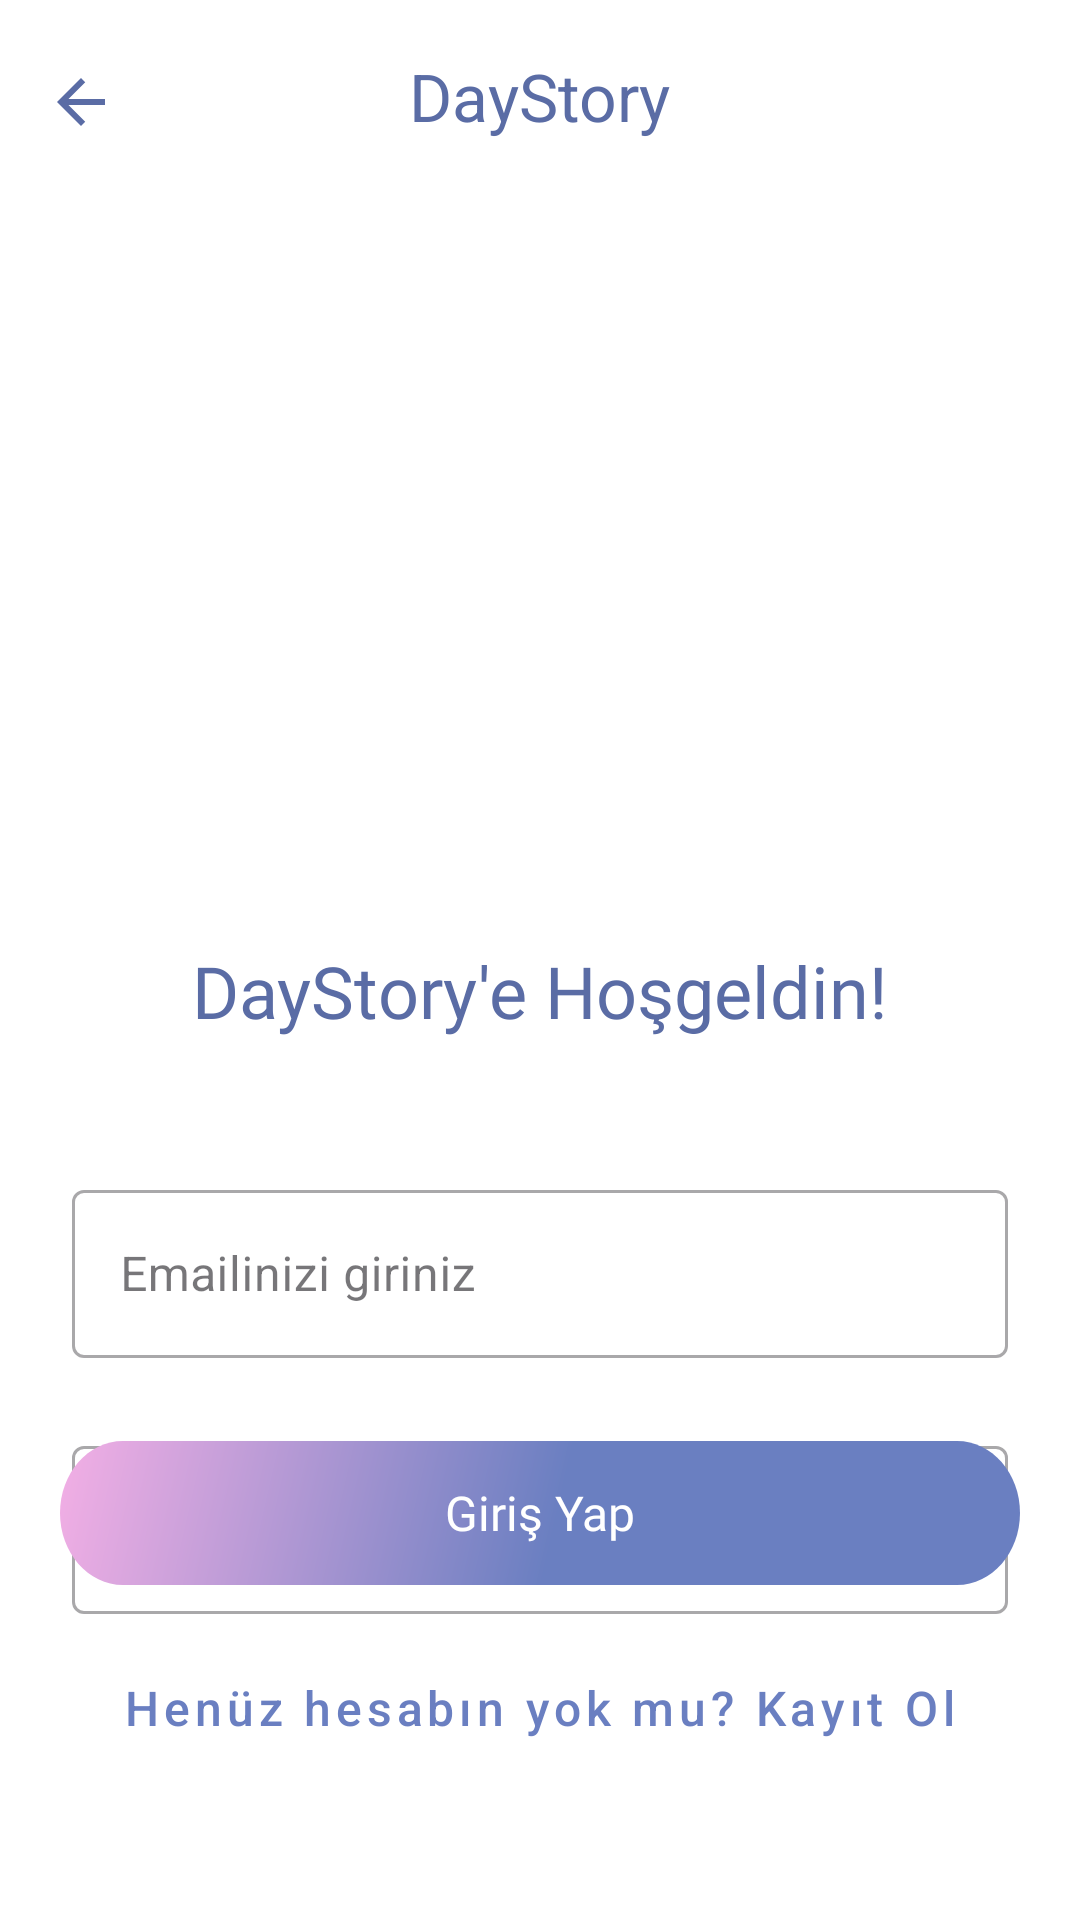

Where to tap for icons on this 1080*1920 app screen, as [x,y]:
back: [81,102]
